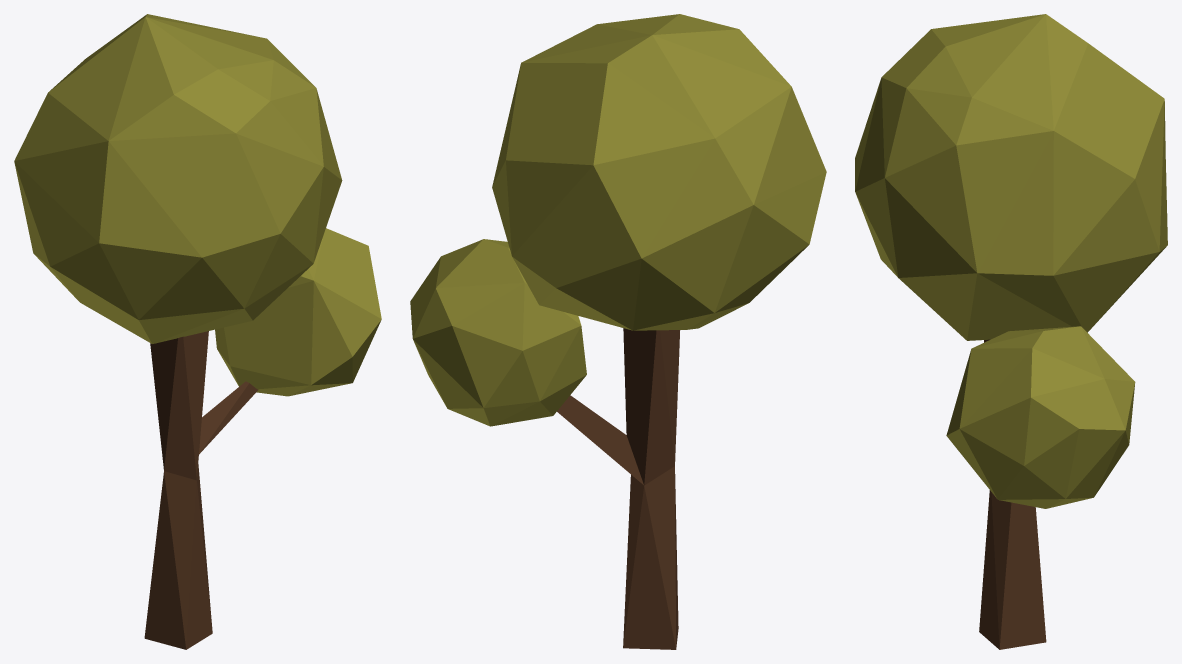
File: Tree_54_Yellow.fbx
3 views of the same model, side by side, from view 1: azimuth 30°, elevation 25°; view 2: azimuth 150°, elevation 25°; view 3: azimuth 270°, elevation 25° (orthographic).
Parts seen in each view (by area): view 1: Tree_54_Yellow_Part_1, Tree_54_Yellow_Part_2, Tree_54_Yellow_Part_3; view 2: Tree_54_Yellow_Part_1, Tree_54_Yellow_Part_2, Tree_54_Yellow_Part_3; view 3: Tree_54_Yellow_Part_1, Tree_54_Yellow_Part_2, Tree_54_Yellow_Part_3.
Boxes of the visible parts, x1,y1,x2,y2 form: Tree_54_Yellow_Part_1: [14, 14, 342, 343]; Tree_54_Yellow_Part_2: [199, 228, 381, 454]; Tree_54_Yellow_Part_3: [144, 331, 212, 649]; Tree_54_Yellow_Part_1: [492, 14, 826, 330]; Tree_54_Yellow_Part_2: [410, 239, 643, 484]; Tree_54_Yellow_Part_3: [623, 328, 680, 649]; Tree_54_Yellow_Part_1: [855, 14, 1167, 340]; Tree_54_Yellow_Part_2: [946, 326, 1135, 508]; Tree_54_Yellow_Part_3: [979, 339, 1046, 649].
Bounding box in the file's own units: 358 × 602 × 278.
